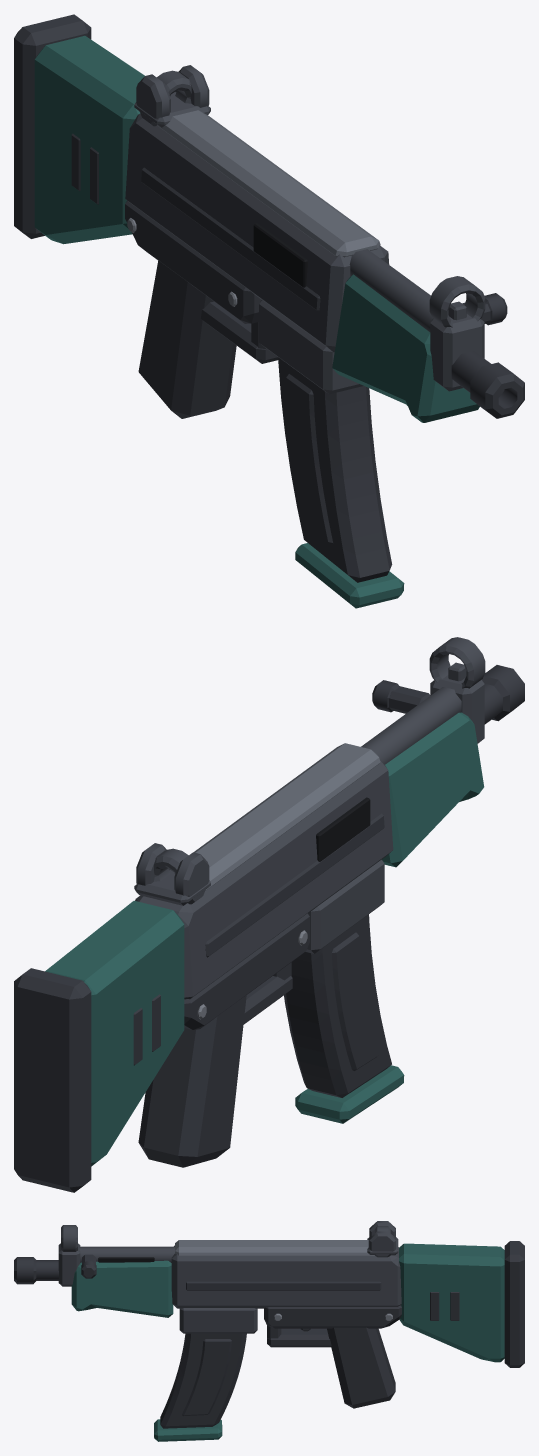
The model's file is w_smg.glb.
3 views of the same model, one above another, from view 1: azimuth 30°, elevation 25°; view 2: azimuth 150°, elevation 25°; view 3: azimuth 270°, elevation 25° (orthographic). The views are drawn at different scales.
Visible parts, largest first — view 1: body_wzB__frame__p444851, stock_wzA__body__p30605d, grip_wzB__dark__p353840, mag_wzB__dark__p353840, fore_wzA__body__p30605d, cover_wzA__deck__p676d78, sight_wzN__frame__p444851, stock_wzB__dark__p353840, barrel_wzB__dark__p353840, body_wzN__dark__p353840, mag_wzN__body__p30605d, trim_wzN__black__p16171b (+1 smaller); view 2: body_wzB__frame__p444851, stock_wzA__body__p30605d, grip_wzB__dark__p353840, stock_wzB__dark__p353840, mag_wzB__dark__p353840, fore_wzA__body__p30605d, cover_wzA__deck__p676d78, sight_wzN__frame__p444851, body_wzN__dark__p353840, mag_wzN__body__p30605d, barrel_wzB__dark__p353840, trim_wzN__black__p16171b (+2 smaller); view 3: body_wzB__frame__p444851, stock_wzA__body__p30605d, grip_wzB__dark__p353840, mag_wzB__dark__p353840, fore_wzA__body__p30605d, cover_wzA__deck__p676d78, stock_wzB__dark__p353840, sight_wzN__frame__p444851, body_wzN__dark__p353840, barrel_wzB__dark__p353840, mag_wzN__body__p30605d, mark_wzN__dark__p353840 (+2 smaller).
Part boxes in pixels (x1,y1,x2,y2): body_wzB__frame__p444851: [125, 113, 432, 394]; stock_wzA__body__p30605d: [34, 35, 144, 244]; grip_wzB__dark__p353840: [125, 200, 278, 418]; mag_wzB__dark__p353840: [278, 357, 392, 582]; fore_wzA__body__p30605d: [332, 274, 479, 422]; cover_wzA__deck__p676d78: [157, 110, 380, 257]; sight_wzN__frame__p444851: [134, 65, 485, 391]; stock_wzB__dark__p353840: [14, 14, 91, 238]; barrel_wzB__dark__p353840: [451, 351, 524, 418]; body_wzN__dark__p353840: [141, 167, 320, 311]; mag_wzN__body__p30605d: [295, 543, 404, 608]; trim_wzN__black__p16171b: [253, 223, 307, 287]; body_wzB__frame__p444851: [135, 687, 461, 999]; stock_wzA__body__p30605d: [45, 900, 184, 1166]; grip_wzB__dark__p353840: [138, 913, 309, 1167]; stock_wzB__dark__p353840: [14, 968, 91, 1192]; mag_wzB__dark__p353840: [284, 914, 391, 1097]; fore_wzA__body__p30605d: [382, 712, 484, 867]; cover_wzA__deck__p676d78: [194, 743, 380, 890]; sight_wzN__frame__p444851: [134, 637, 485, 905]; body_wzN__dark__p353840: [205, 813, 384, 957]; mag_wzN__body__p30605d: [295, 1065, 404, 1123]; barrel_wzB__dark__p353840: [482, 665, 524, 724]; trim_wzN__black__p16171b: [316, 797, 370, 861]; body_wzB__frame__p444851: [79, 1245, 401, 1333]; stock_wzA__body__p30605d: [399, 1243, 504, 1362]; grip_wzB__dark__p353840: [264, 1305, 401, 1408]; mag_wzB__dark__p353840: [160, 1333, 246, 1428]; fore_wzA__body__p30605d: [71, 1260, 173, 1317]; cover_wzA__deck__p676d78: [175, 1240, 374, 1255]; stock_wzB__dark__p353840: [504, 1241, 524, 1367]; sight_wzN__frame__p444851: [58, 1221, 398, 1286]; body_wzN__dark__p353840: [186, 1281, 381, 1290]; barrel_wzB__dark__p353840: [14, 1257, 58, 1284]; mag_wzN__body__p30605d: [154, 1419, 222, 1441]; mark_wzN__dark__p353840: [430, 1292, 459, 1320].
Size of the model in its own units: 0.081 by 0.296 by 0.654.
